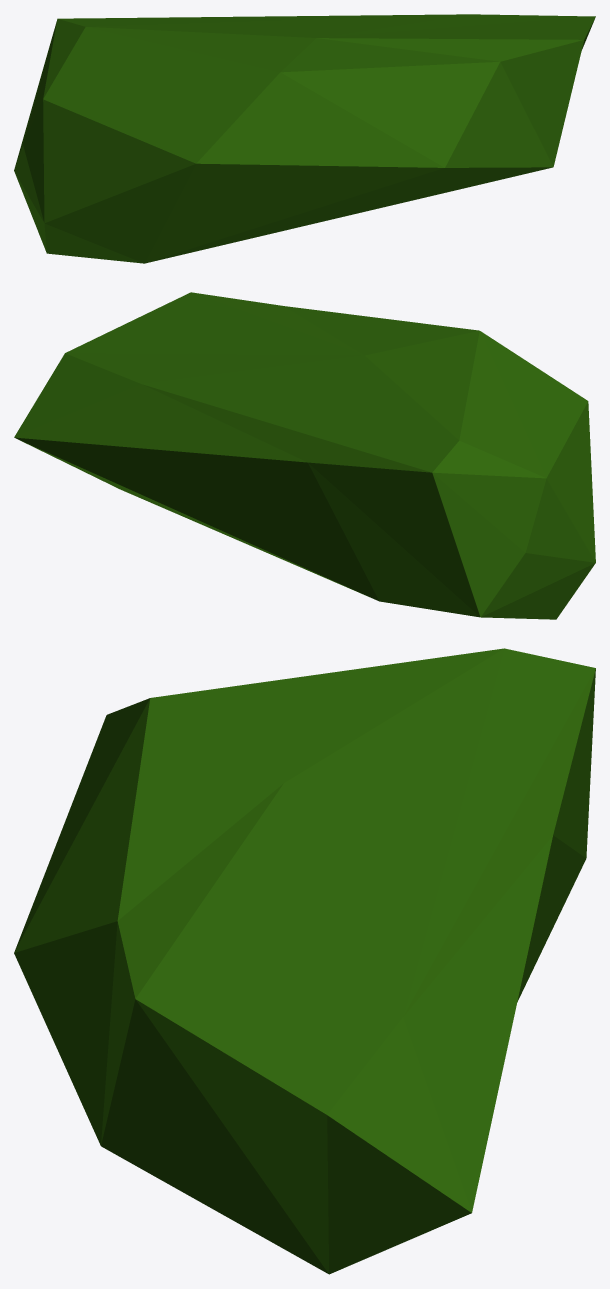
Rendered from p3-green.obj.
The picture shows the model from 3 angles, top to bottom: view 1: azimuth 30°, elevation 25°; view 2: azimuth 150°, elevation 25°; view 3: azimuth 270°, elevation 25°; orthographic projection. The views are drawn at different scales.
Visible parts, largest first — view 1: p3-green_Icosphere.009; view 2: p3-green_Icosphere.009; view 3: p3-green_Icosphere.009.
Part boxes in pixels (box(x1,y1,x2,y2)): p3-green_Icosphere.009: box(14, 14, 595, 263); p3-green_Icosphere.009: box(14, 292, 595, 619); p3-green_Icosphere.009: box(14, 648, 595, 1274).
Bounding box in the file's own units: 5.17 × 1.78 × 2.86.
